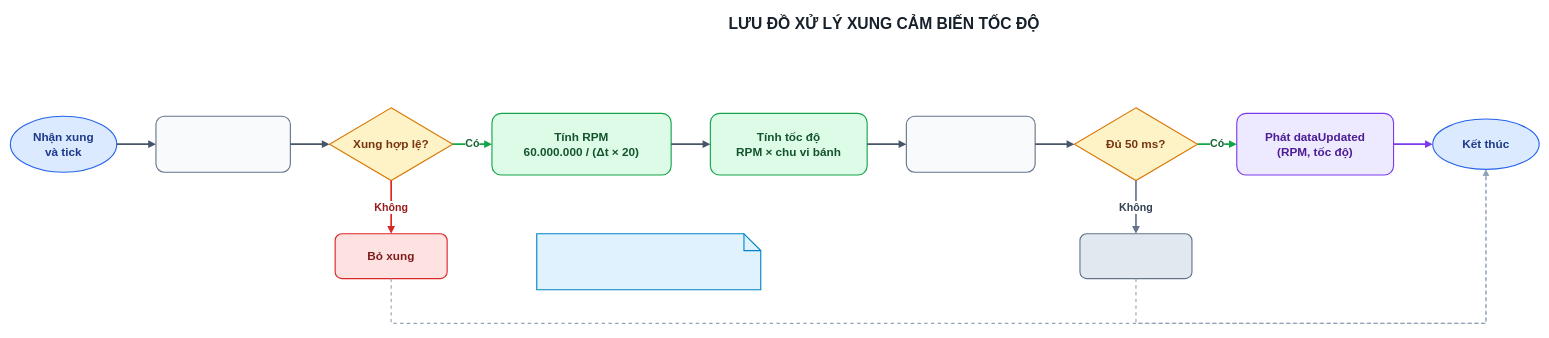
The diagram is 1549 pixels wide and 338 high, and some of its shapes have lost their labels. Here are the shapes that lost their labels. From the top down, the centre of each, then its label:
At point 223,143: "Lấy tick trước và tính Δt".
At point 970,143: "Lưu RPM và tốc độ".
At point 648,261: "Δt < 2.500 µs: xung nhiễu Chu kỳ cập nhật UI: 50 ms".
At point 1135,256: "Chờ lần sau".
